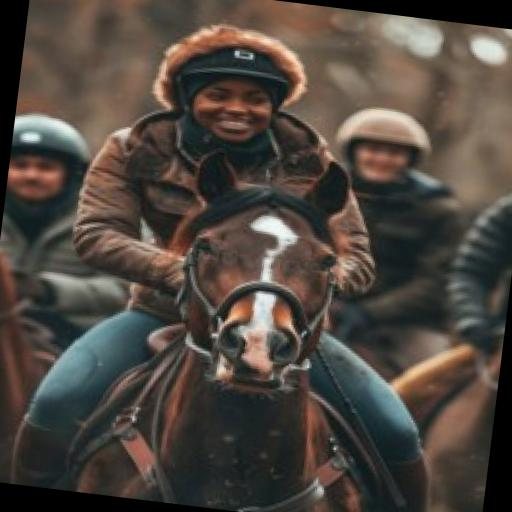human: (19, 7, 468, 512)
